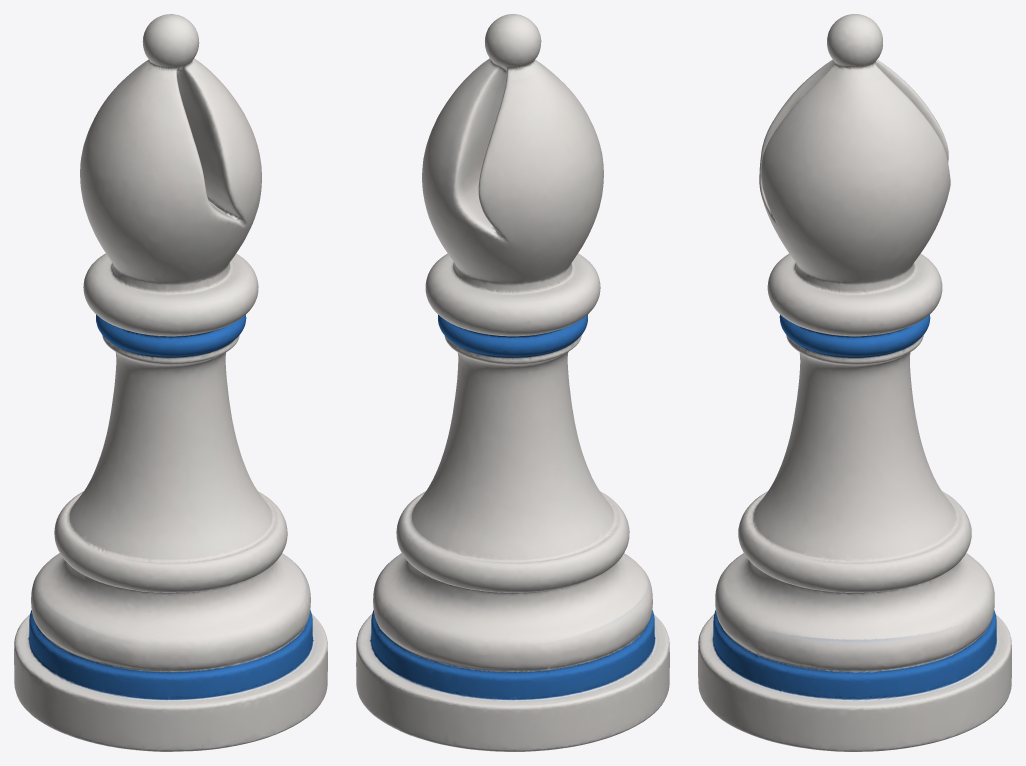
File: bishop.glb
3 renders of one model, left to right at view 1: azimuth 30°, elevation 25°; view 2: azimuth 150°, elevation 25°; view 3: azimuth 270°, elevation 25°, orthographic.
Size of the model in its own units: 0.8046 by 1.9 by 0.8048.
1 material, 1 textured.
